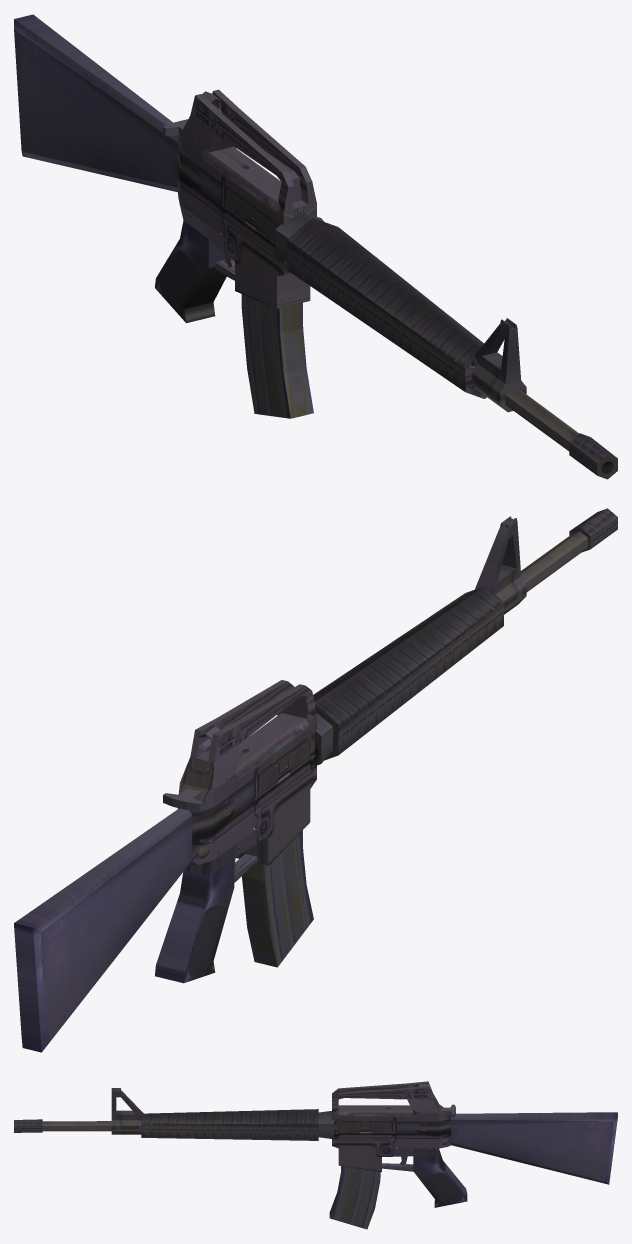
File: M16_glb.glb
The picture shows the model from 3 angles, top to bottom: view 1: azimuth 30°, elevation 25°; view 2: azimuth 150°, elevation 25°; view 3: azimuth 270°, elevation 25°; orthographic projection. The views are drawn at different scales.
Visible parts, largest first — view 1: M16, Mag; view 2: M16, Mag; view 3: M16, Mag.
Part boxes in pixels (x1,y1,x2,y2): M16: [14, 14, 617, 479]; Mag: [241, 294, 313, 418]; M16: [14, 508, 617, 1052]; Mag: [242, 830, 313, 967]; M16: [14, 1081, 617, 1207]; Mag: [329, 1166, 380, 1229].
Bounding box in the file's own units: 0.2505 × 1.29 × 4.96.
1 material, 1 textured.
